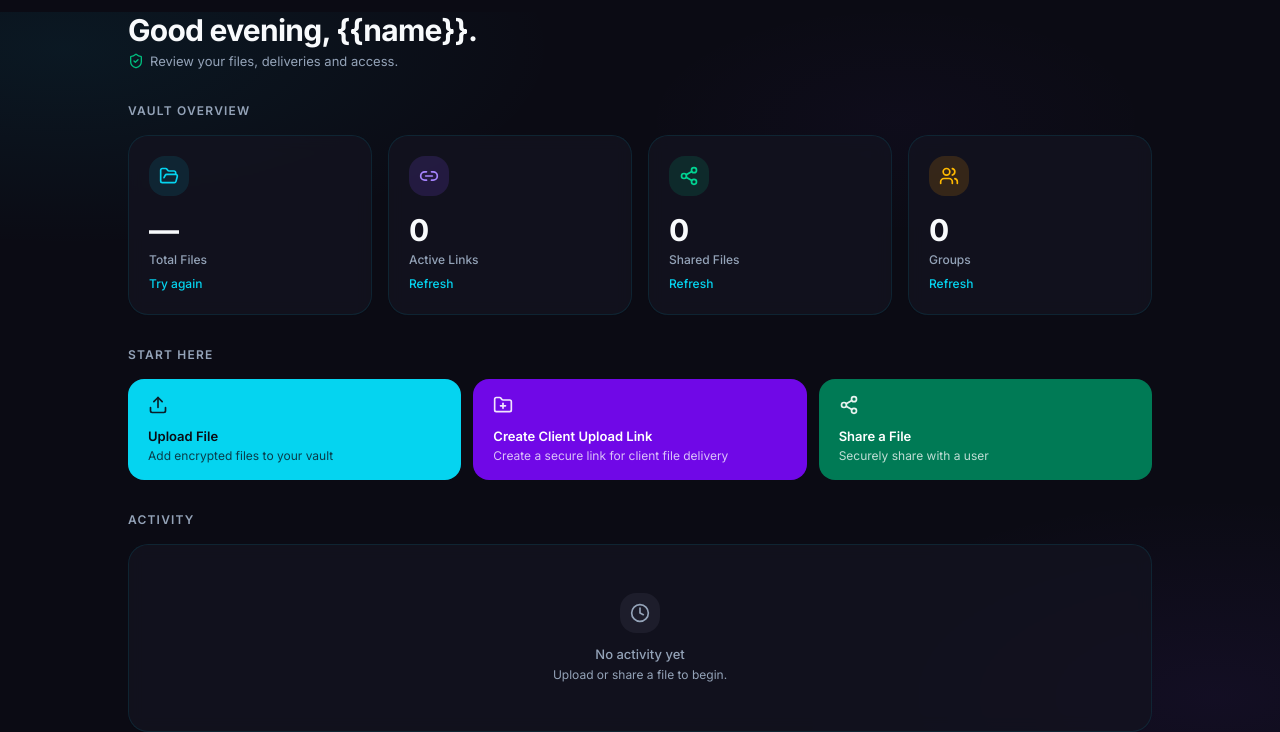
Test case: Dashboard truthful overview counts › retries only the failed count source
Click the button with aria-label "Try Total Files again" at (176,284), box [149,276,202,292]
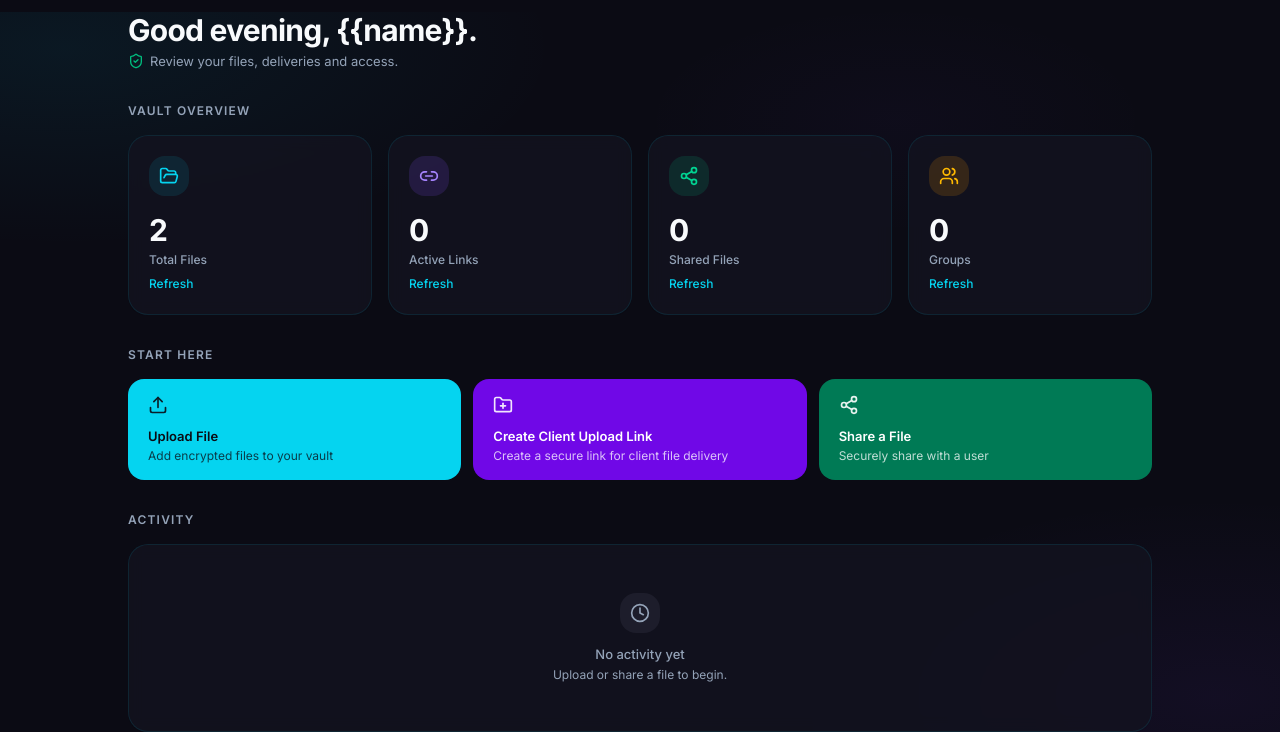
Expected: the text "2" is shown, [149,212,168,248]
